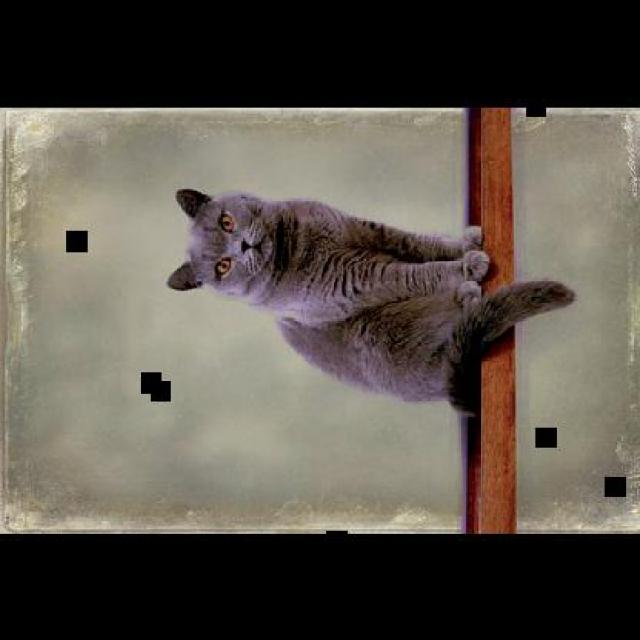unauthorized: (164, 186, 576, 414), (275, 275, 574, 414)
